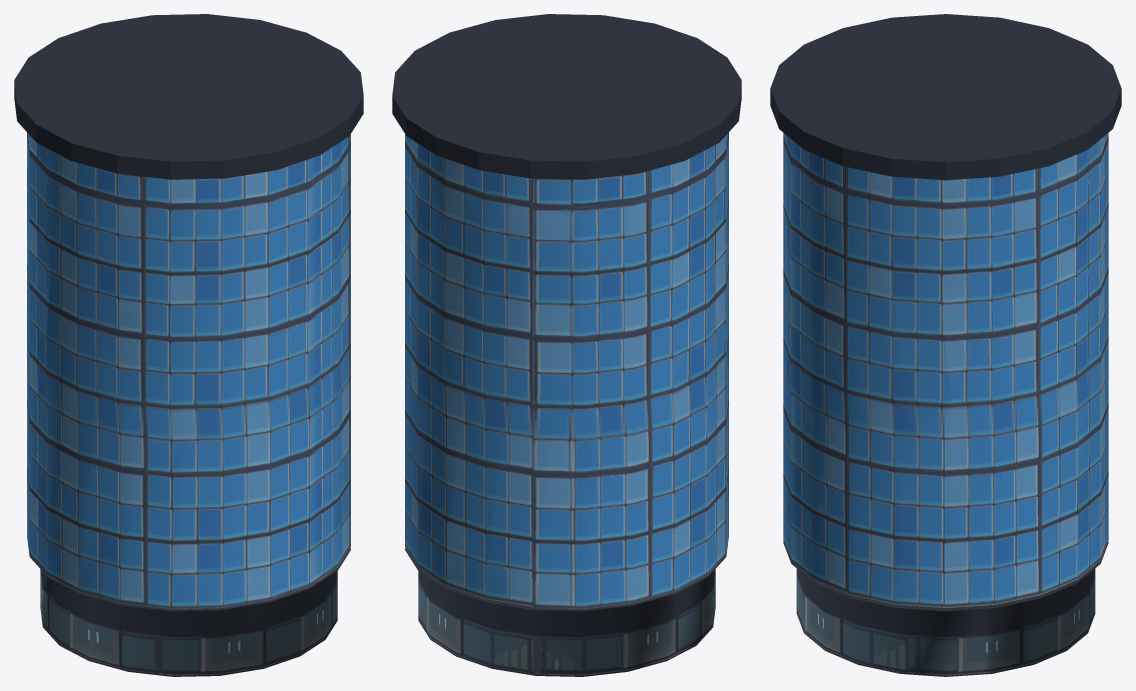
The model's file is FractureTower.fbx.
3 renders of one model, left to right at view 1: azimuth 30°, elevation 25°; view 2: azimuth 150°, elevation 25°; view 3: azimuth 270°, elevation 25°, orthographic.
Visible parts, largest first — view 1: BLD_13__3_.012, BLD_13__3_.013, BLD_13__3_.014, BLD_13__3_.006, BLD_13__3_.015, BLD_13__3_.010, BLD_13__3_.011, BLD_13__3_.009; view 2: BLD_13__3_.006, BLD_13__3_.011, BLD_13__3_.010, BLD_13__3_.009, BLD_13__3_.012, BLD_13__3_.013, BLD_13__3_.015, BLD_13__3_.014; view 3: BLD_13__3_.006, BLD_13__3_.012, BLD_13__3_.013, BLD_13__3_.011, BLD_13__3_.014, BLD_13__3_.010, BLD_13__3_.015, BLD_13__3_.009.
Boxes of the visible parts, bbox=[...] form: BLD_13__3_.012: bbox=[49, 59, 363, 329]; BLD_13__3_.013: bbox=[37, 468, 350, 676]; BLD_13__3_.014: bbox=[45, 254, 350, 458]; BLD_13__3_.006: bbox=[14, 14, 348, 259]; BLD_13__3_.015: bbox=[40, 381, 350, 524]; BLD_13__3_.010: bbox=[27, 192, 51, 379]; BLD_13__3_.011: bbox=[27, 322, 44, 498]; BLD_13__3_.009: bbox=[27, 475, 48, 630]; BLD_13__3_.006: bbox=[392, 43, 726, 259]; BLD_13__3_.011: bbox=[405, 334, 703, 554]; BLD_13__3_.010: bbox=[405, 204, 710, 389]; BLD_13__3_.009: bbox=[405, 489, 694, 676]; BLD_13__3_.012: bbox=[428, 14, 741, 255]; BLD_13__3_.013: bbox=[673, 455, 728, 657]; BLD_13__3_.015: bbox=[694, 370, 728, 513]; BLD_13__3_.014: bbox=[703, 240, 728, 386]; BLD_13__3_.006: bbox=[925, 14, 1121, 291]; BLD_13__3_.012: bbox=[770, 15, 939, 302]; BLD_13__3_.013: bbox=[783, 454, 982, 676]; BLD_13__3_.011: bbox=[953, 310, 1108, 541]; BLD_13__3_.014: bbox=[783, 265, 953, 431]; BLD_13__3_.010: bbox=[940, 180, 1108, 417]; BLD_13__3_.015: bbox=[783, 394, 966, 540]; BLD_13__3_.009: bbox=[967, 489, 1108, 674].
Size of the model in its own units: 1116 by 1843 by 1116.
1 material, 1 textured.
